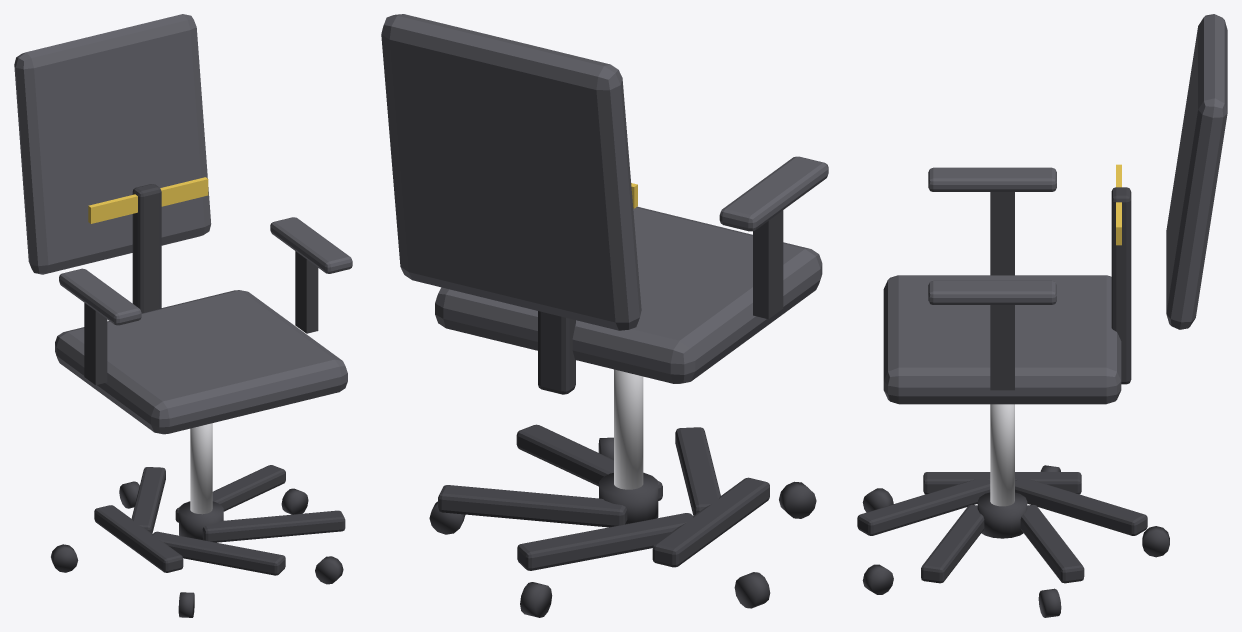
File: INT_OfficeChair.fbx
3 renders of one model, left to right at view 1: azimuth 30°, elevation 25°; view 2: azimuth 150°, elevation 25°; view 3: azimuth 270°, elevation 25°, orthographic. The views are drawn at different scales.
Visible parts, largest first — view 1: INT_OfficeChair_Back, INT_OfficeChair_Seat, INT_OfficeChair, INT_OfficeChair_BackSpine, INT_OfficeChair_ArmPadL, INT_OfficeChair_ArmPadR, INT_OfficeChair_GasLift, INT_OfficeChair_LumbarAccent, INT_OfficeChair_ArmPostR, INT_OfficeChair_ArmPostL, INT_OfficeChair_Hub; view 2: INT_OfficeChair_Back, INT_OfficeChair_Seat, INT_OfficeChair, INT_OfficeChair_ArmPadL, INT_OfficeChair_GasLift, INT_OfficeChair_ArmPostL, INT_OfficeChair_BackSpine, INT_OfficeChair_Hub; view 3: INT_OfficeChair_Seat, INT_OfficeChair, INT_OfficeChair_Back, INT_OfficeChair_BackSpine, INT_OfficeChair_ArmPadL, INT_OfficeChair_ArmPadR, INT_OfficeChair_GasLift, INT_OfficeChair_ArmPostR, INT_OfficeChair_ArmPostL, INT_OfficeChair_Hub.
Boxes of the visible parts, x1,y1,x2,y2 form: INT_OfficeChair_Back: [14, 14, 211, 274]; INT_OfficeChair_Seat: [55, 290, 347, 434]; INT_OfficeChair: [51, 465, 345, 617]; INT_OfficeChair_BackSpine: [132, 184, 161, 313]; INT_OfficeChair_ArmPadL: [59, 268, 141, 325]; INT_OfficeChair_ArmPadR: [270, 217, 352, 273]; INT_OfficeChair_GasLift: [190, 423, 212, 514]; INT_OfficeChair_LumbarAccent: [88, 177, 208, 223]; INT_OfficeChair_ArmPostR: [295, 251, 318, 333]; INT_OfficeChair_ArmPostL: [84, 303, 107, 385]; INT_OfficeChair_Hub: [179, 501, 223, 540]; INT_OfficeChair_Back: [381, 14, 641, 330]; INT_OfficeChair_Seat: [435, 206, 822, 383]; INT_OfficeChair: [429, 424, 816, 617]; INT_OfficeChair_ArmPadL: [719, 156, 828, 231]; INT_OfficeChair_GasLift: [614, 369, 643, 489]; INT_OfficeChair_ArmPostL: [753, 210, 783, 319]; INT_OfficeChair_BackSpine: [538, 311, 575, 394]; INT_OfficeChair_Hub: [599, 472, 658, 524]; INT_OfficeChair_Seat: [883, 275, 1121, 404]; INT_OfficeChair: [857, 465, 1169, 617]; INT_OfficeChair_Back: [1166, 14, 1227, 329]; INT_OfficeChair_BackSpine: [1111, 187, 1131, 384]; INT_OfficeChair_ArmPadL: [928, 167, 1056, 191]; INT_OfficeChair_ArmPadR: [928, 280, 1056, 304]; INT_OfficeChair_GasLift: [990, 404, 1014, 506]; INT_OfficeChair_ArmPostR: [990, 305, 1014, 390]; INT_OfficeChair_ArmPostL: [990, 192, 1014, 275]; INT_OfficeChair_Hub: [977, 492, 1027, 538].
Bounding box in the file's own units: 65.22 × 111 × 74.74.
